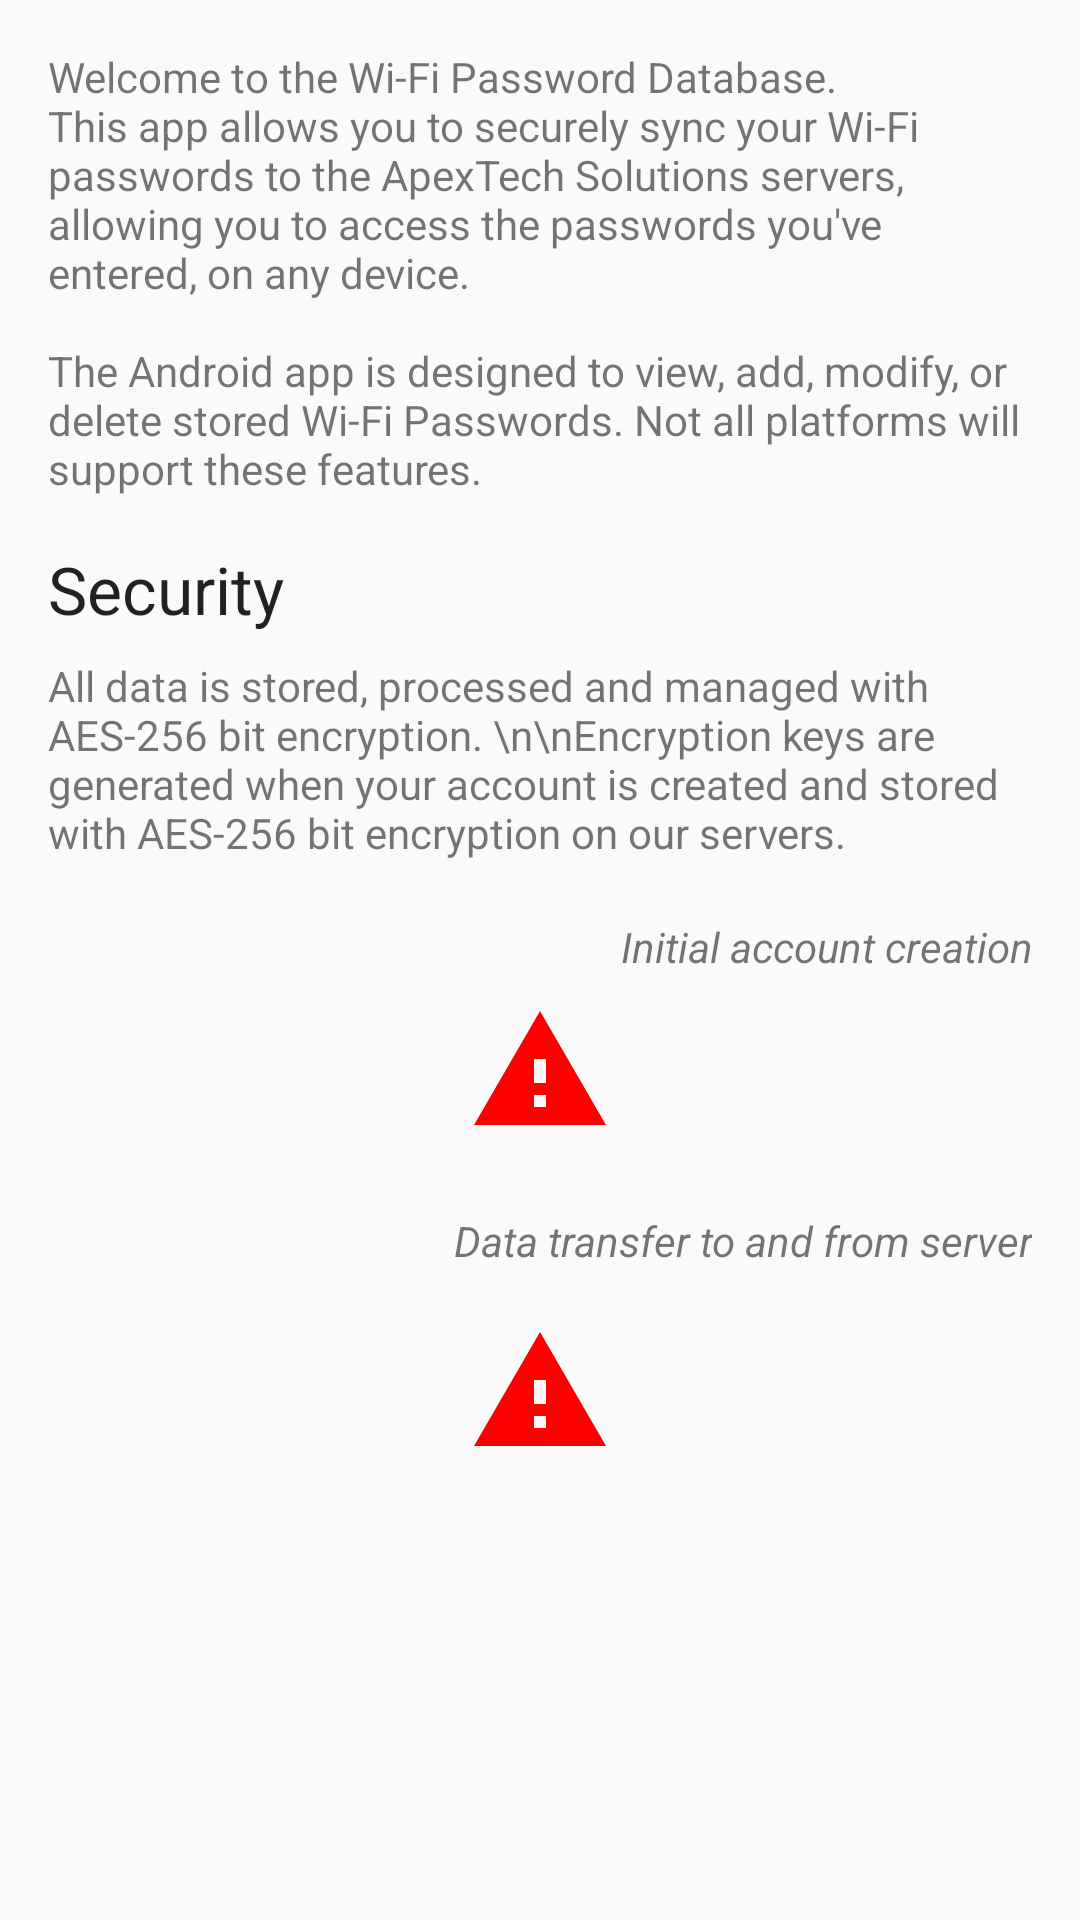

Screen size 1080×1920. Icon name, then its box in pixels as (x1, y1, x2, y2):
alert: (474, 1332, 606, 1446)
